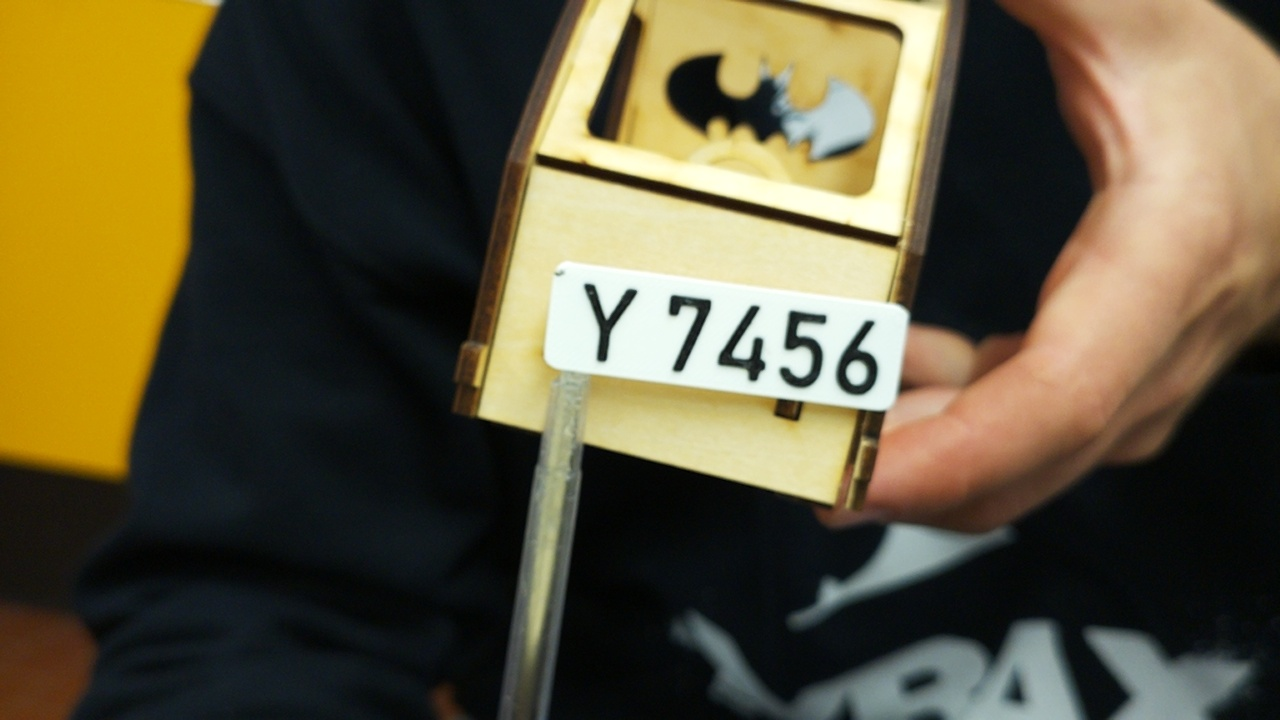license_plate: (538, 258, 912, 414)
